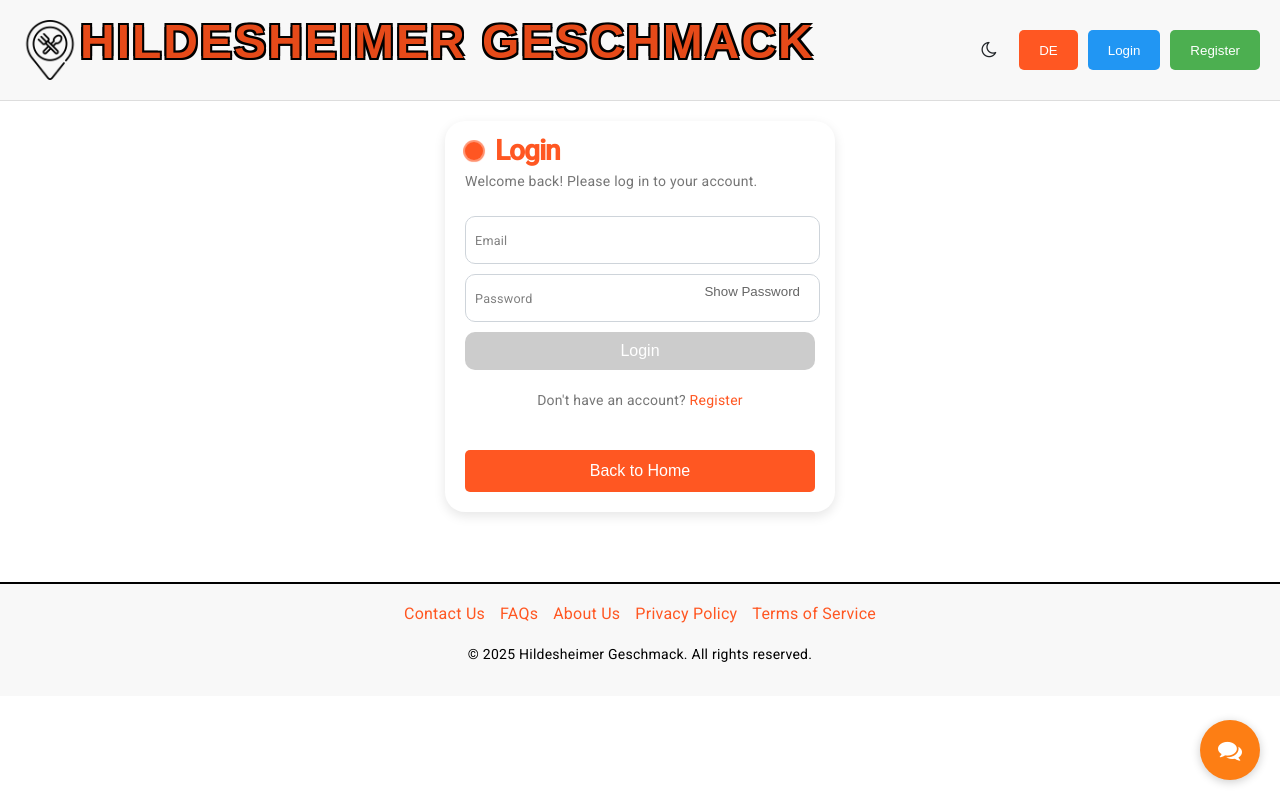
Scenario: Login Page › should show error for invalid credentials
Type "wrong@example.com" into the field named "email" at (643, 240), box x1=465 y1=216 x2=820 y2=264
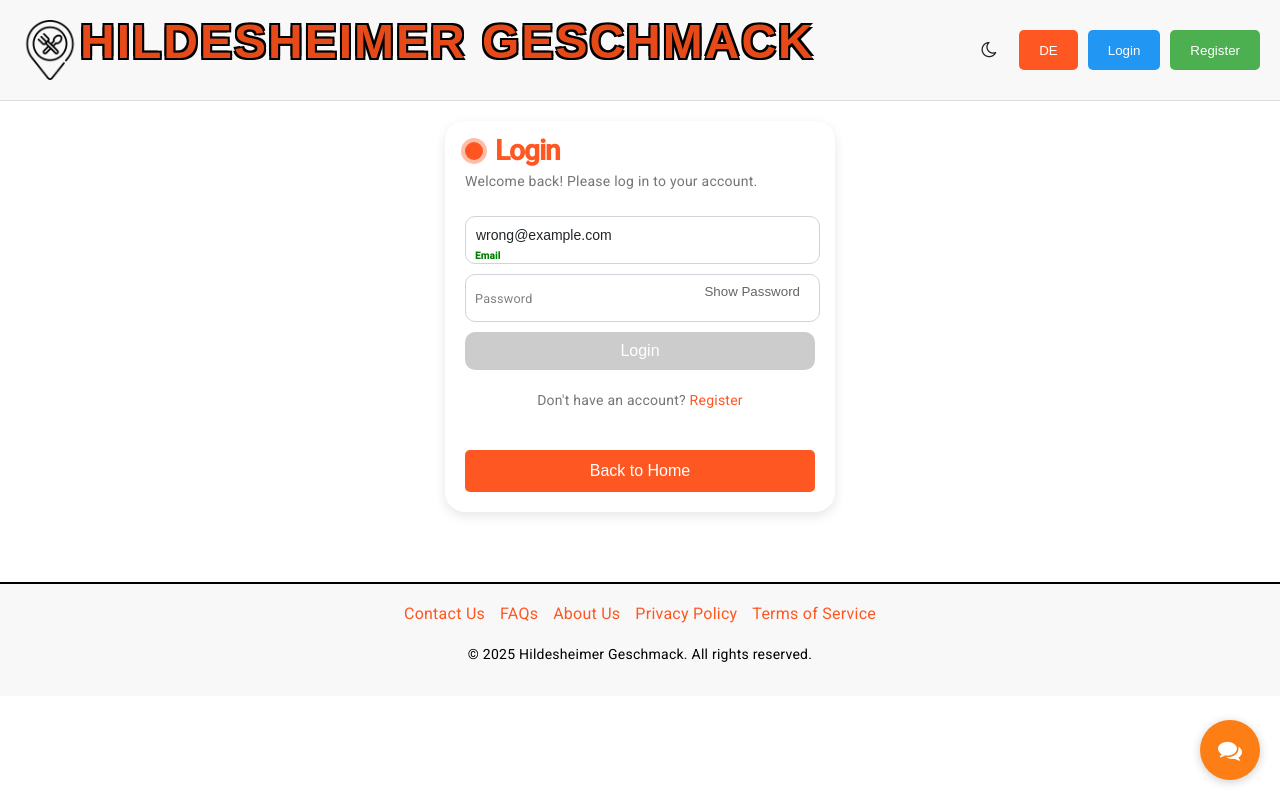
Type "wrongpassword" into the password field named "password" at (643, 298), box x1=465 y1=274 x2=820 y2=322
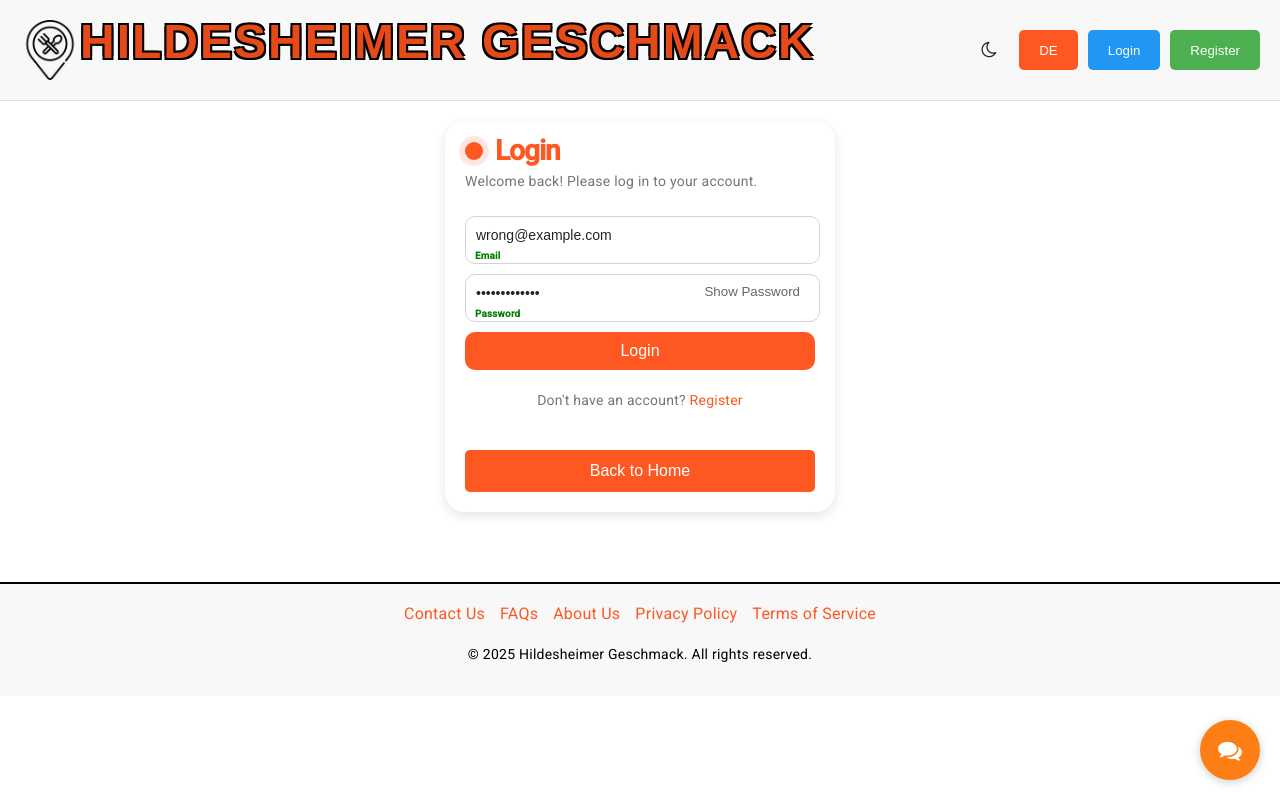
Click the button with class "submit" at (640, 351), box x1=465 y1=332 x2=815 y2=370
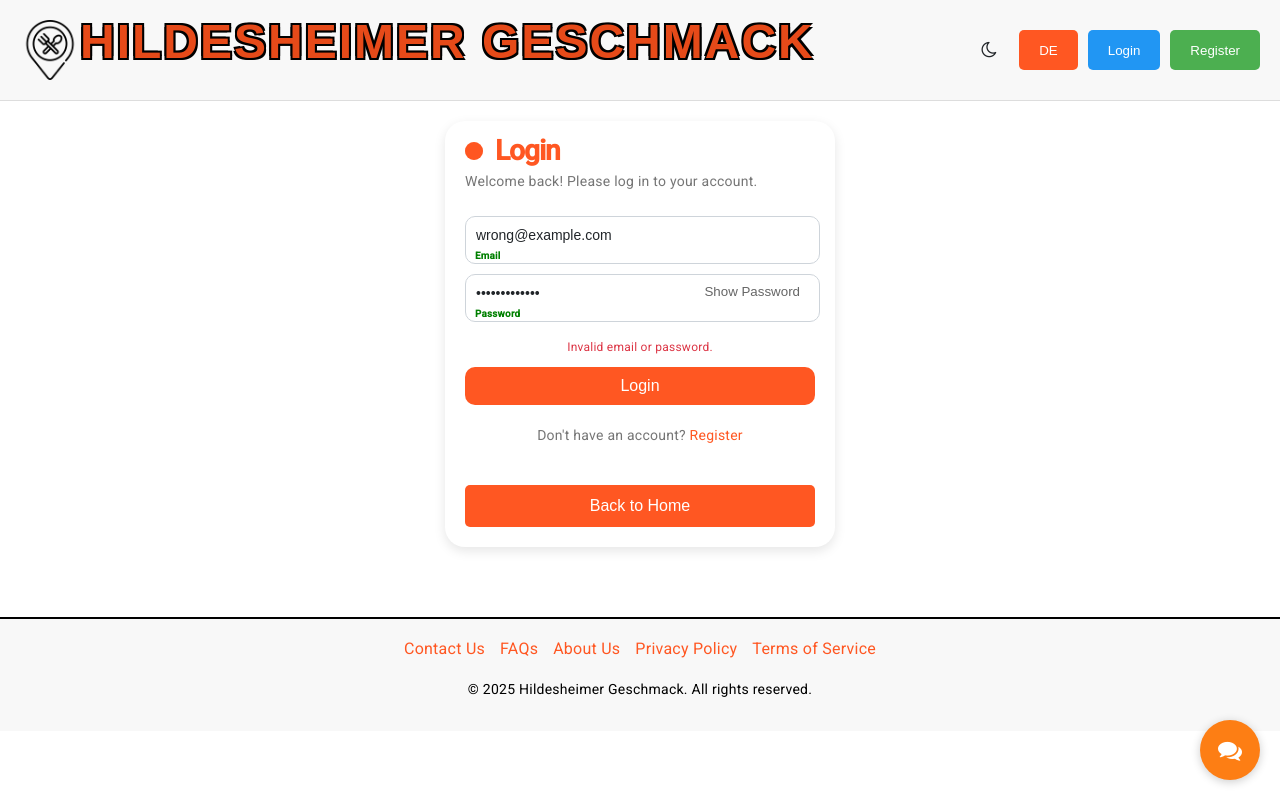
Expected: the text with class "error-message" reads "Invalid email or password.", x1=567 y1=340 x2=713 y2=354
